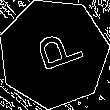P_W: (24, 28, 83, 79)
